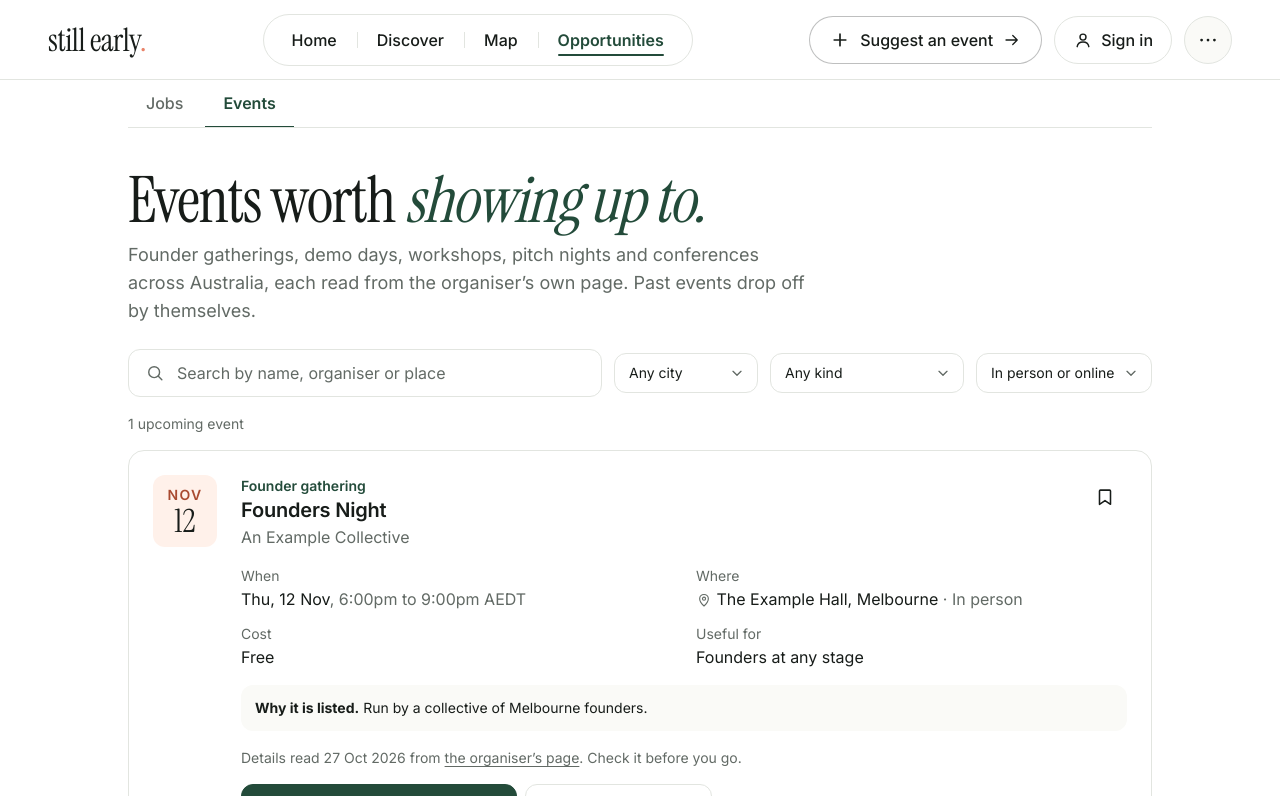
Scenario: Opportunities: Events › suggests an event with the organiser's own page, and says a person checks it before it is listed
Check: the heading "Founders Night" is shown, box [241, 498, 410, 523]
Click the button "Suggest an event" at [926, 40], box [809, 16, 1042, 64]
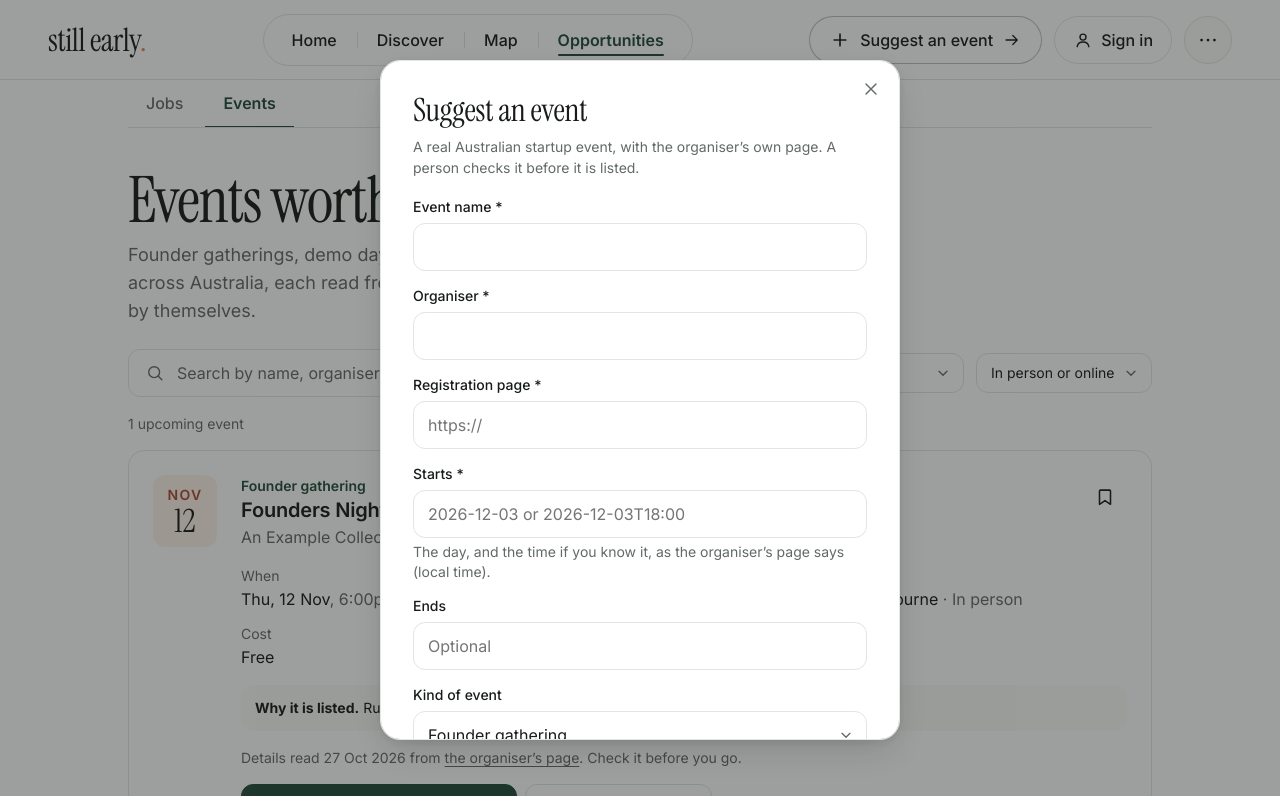
Type "Climate Founders Night" into the field labelled "Event name *" at [640, 247], box [413, 223, 867, 271]
Type "An Example Group" into the field labelled "Organiser *" at [640, 336], box [413, 312, 867, 360]
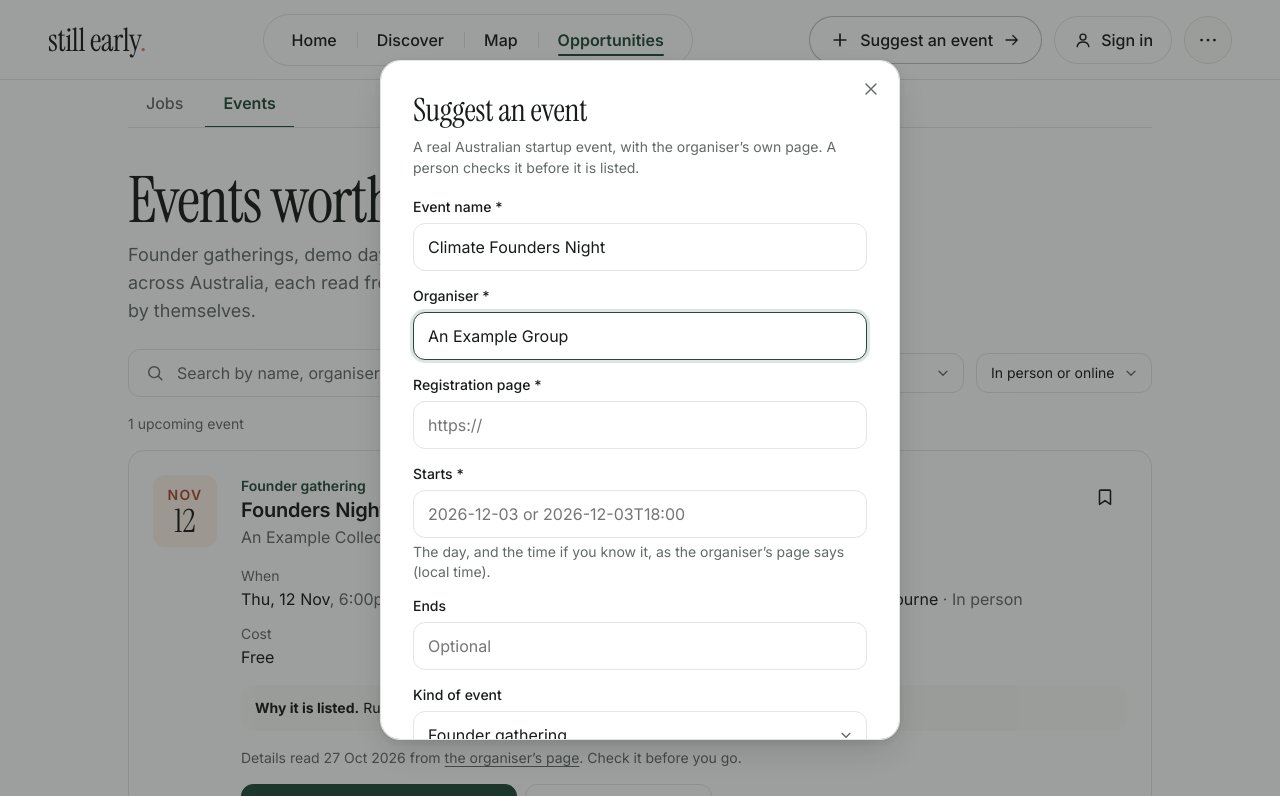
Type "https://example.org/climate" into the field labelled "Registration page *" at [640, 425], box [413, 401, 867, 449]
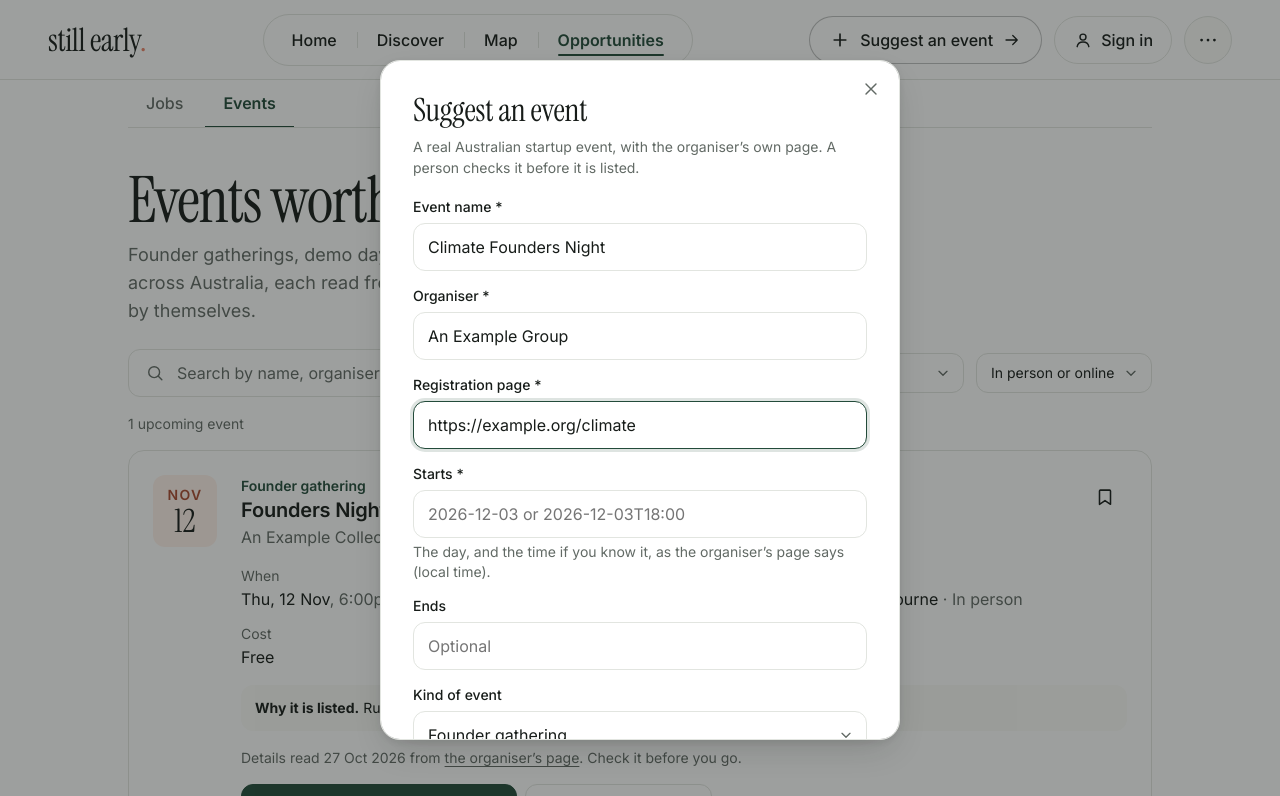
Type "2026-12-03T18:00" into the field labelled "Starts *" at [640, 514], box [413, 490, 867, 538]
(page scrolled)
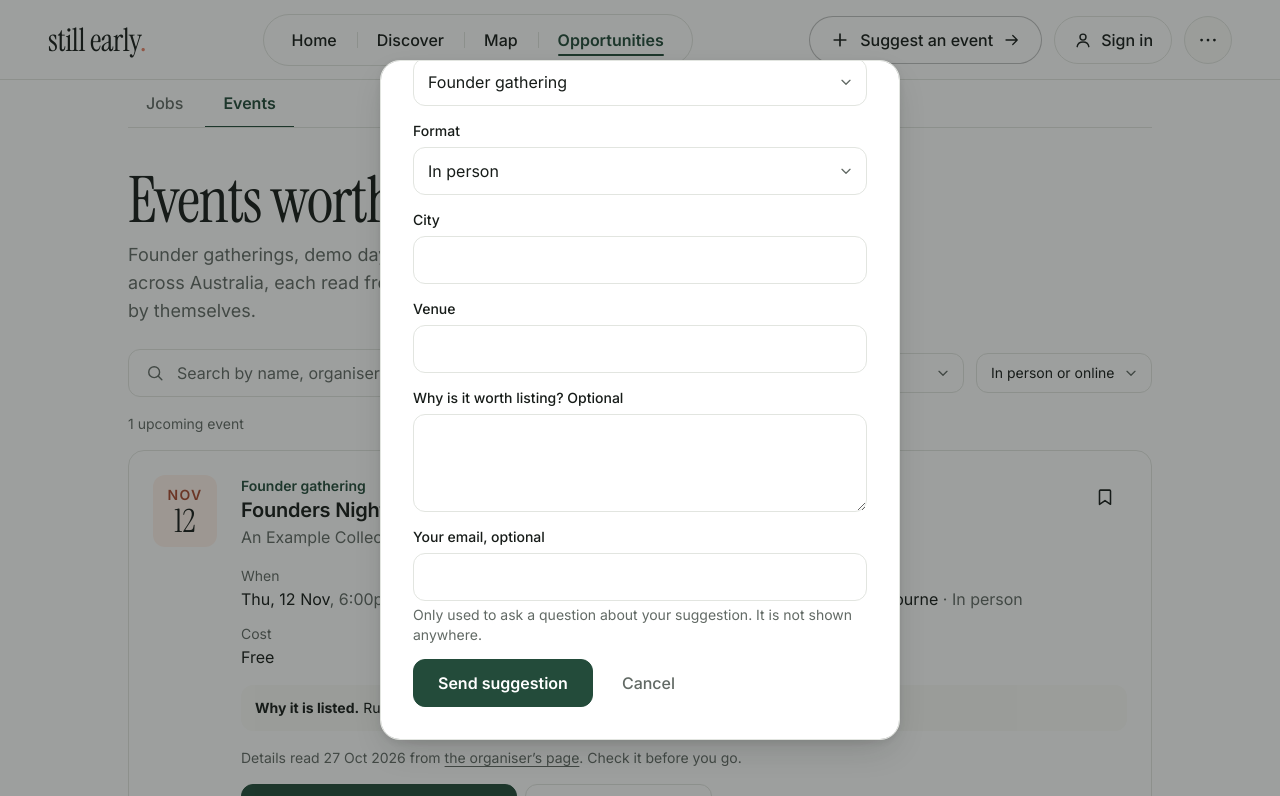
Type "tipster@example.com" into the field labelled "Your email, optional" at [640, 577], box [413, 553, 867, 601]
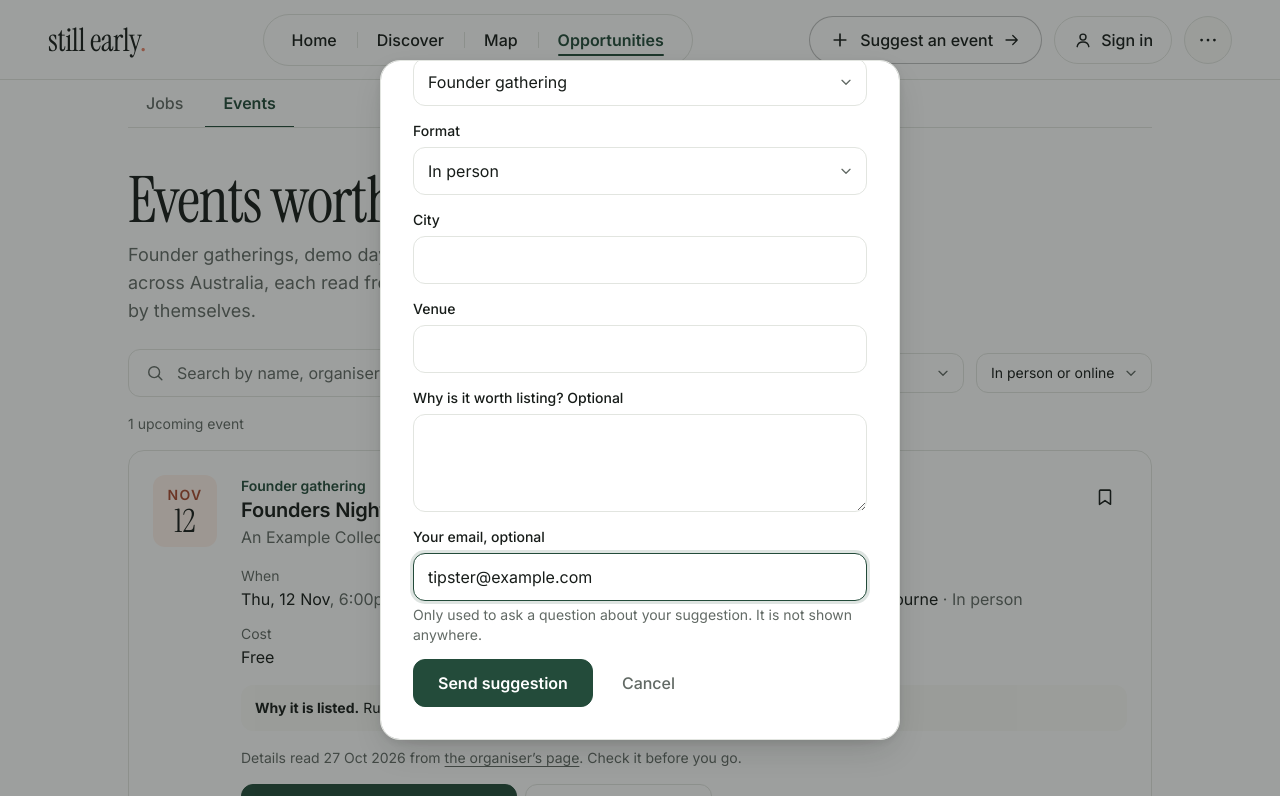
Click the button "Send suggestion" at [503, 683], box [413, 659, 593, 707]
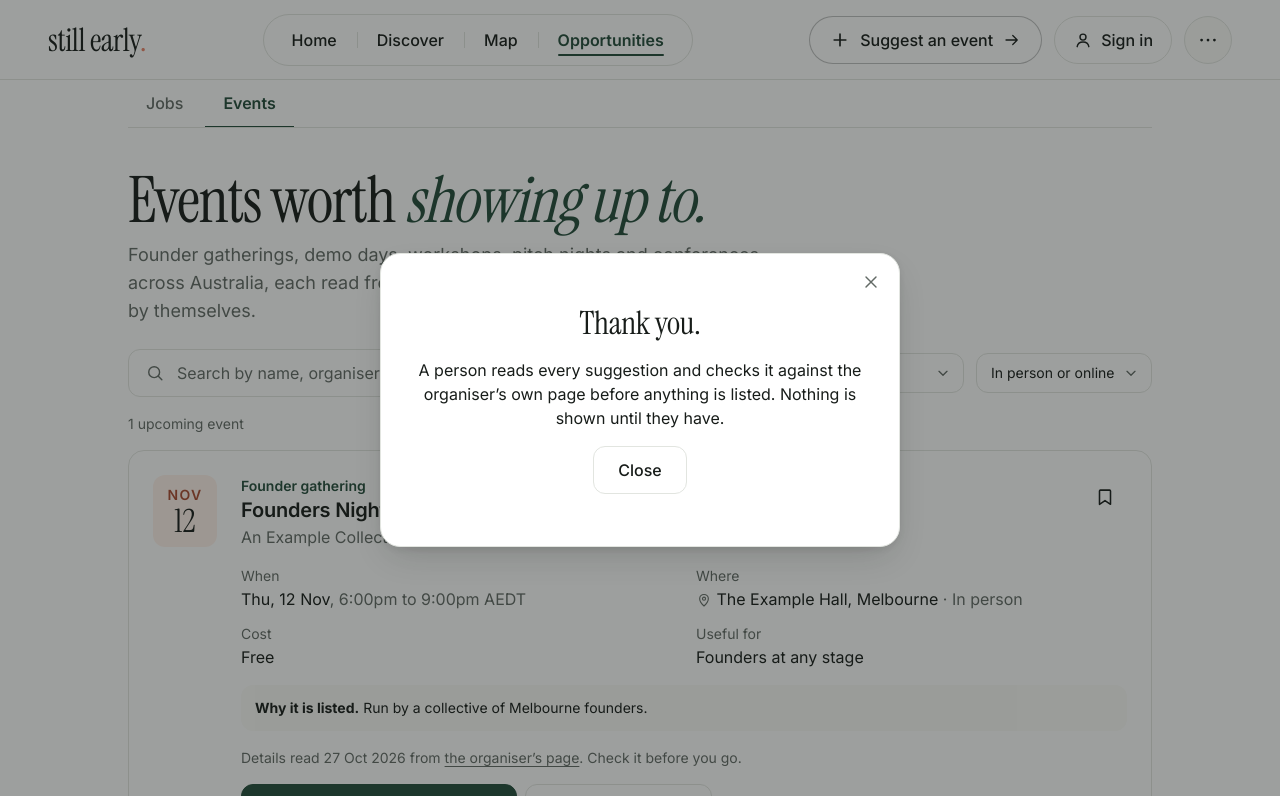
Check: the text "A person reads every suggestion" is shown, box [419, 360, 862, 380]
